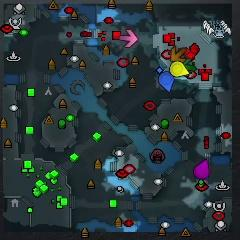p1: (158, 72, 175, 93)
p3: (193, 160, 211, 180)
p4: (169, 61, 190, 78)
x1: (119, 30, 138, 47)
x4: (183, 58, 197, 72)
x5: (171, 46, 185, 63)
